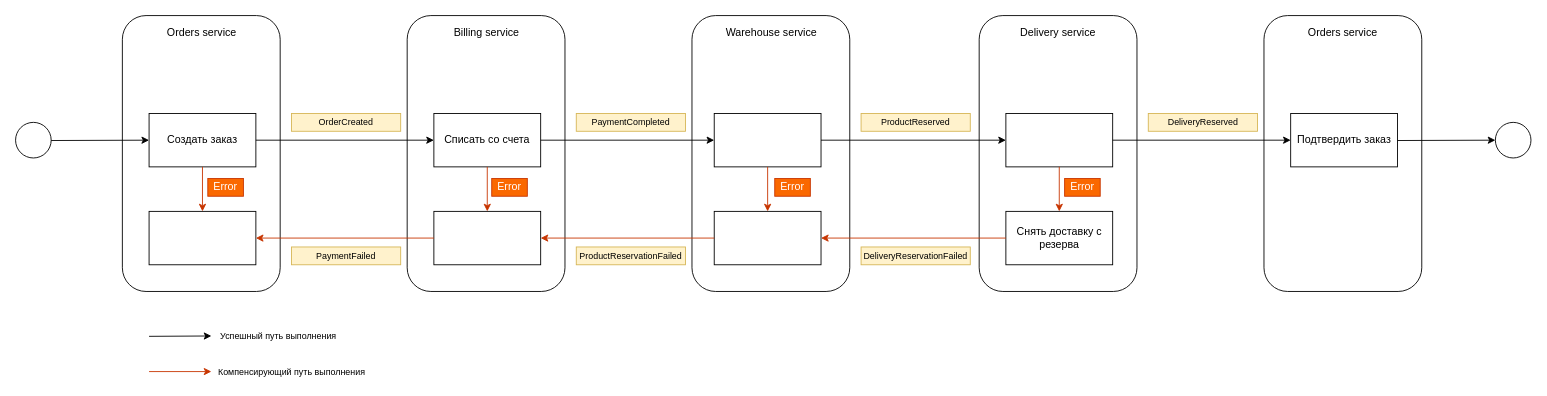
Image size: 1547x396. Some labels were removed from this diagram. Here are the shapes that lost their labels. From the top down, the centre of each, then its label:
the point at 33,139: Start
the point at 767,140: Зарезервировать товар
the point at 1059,140: Зарезервировать доставку
the point at 1512,139: End
the point at 202,237: Отклонить заказ
the point at 487,237: Восстановить списанную сумму
the point at 767,237: Снять товар с резерва
